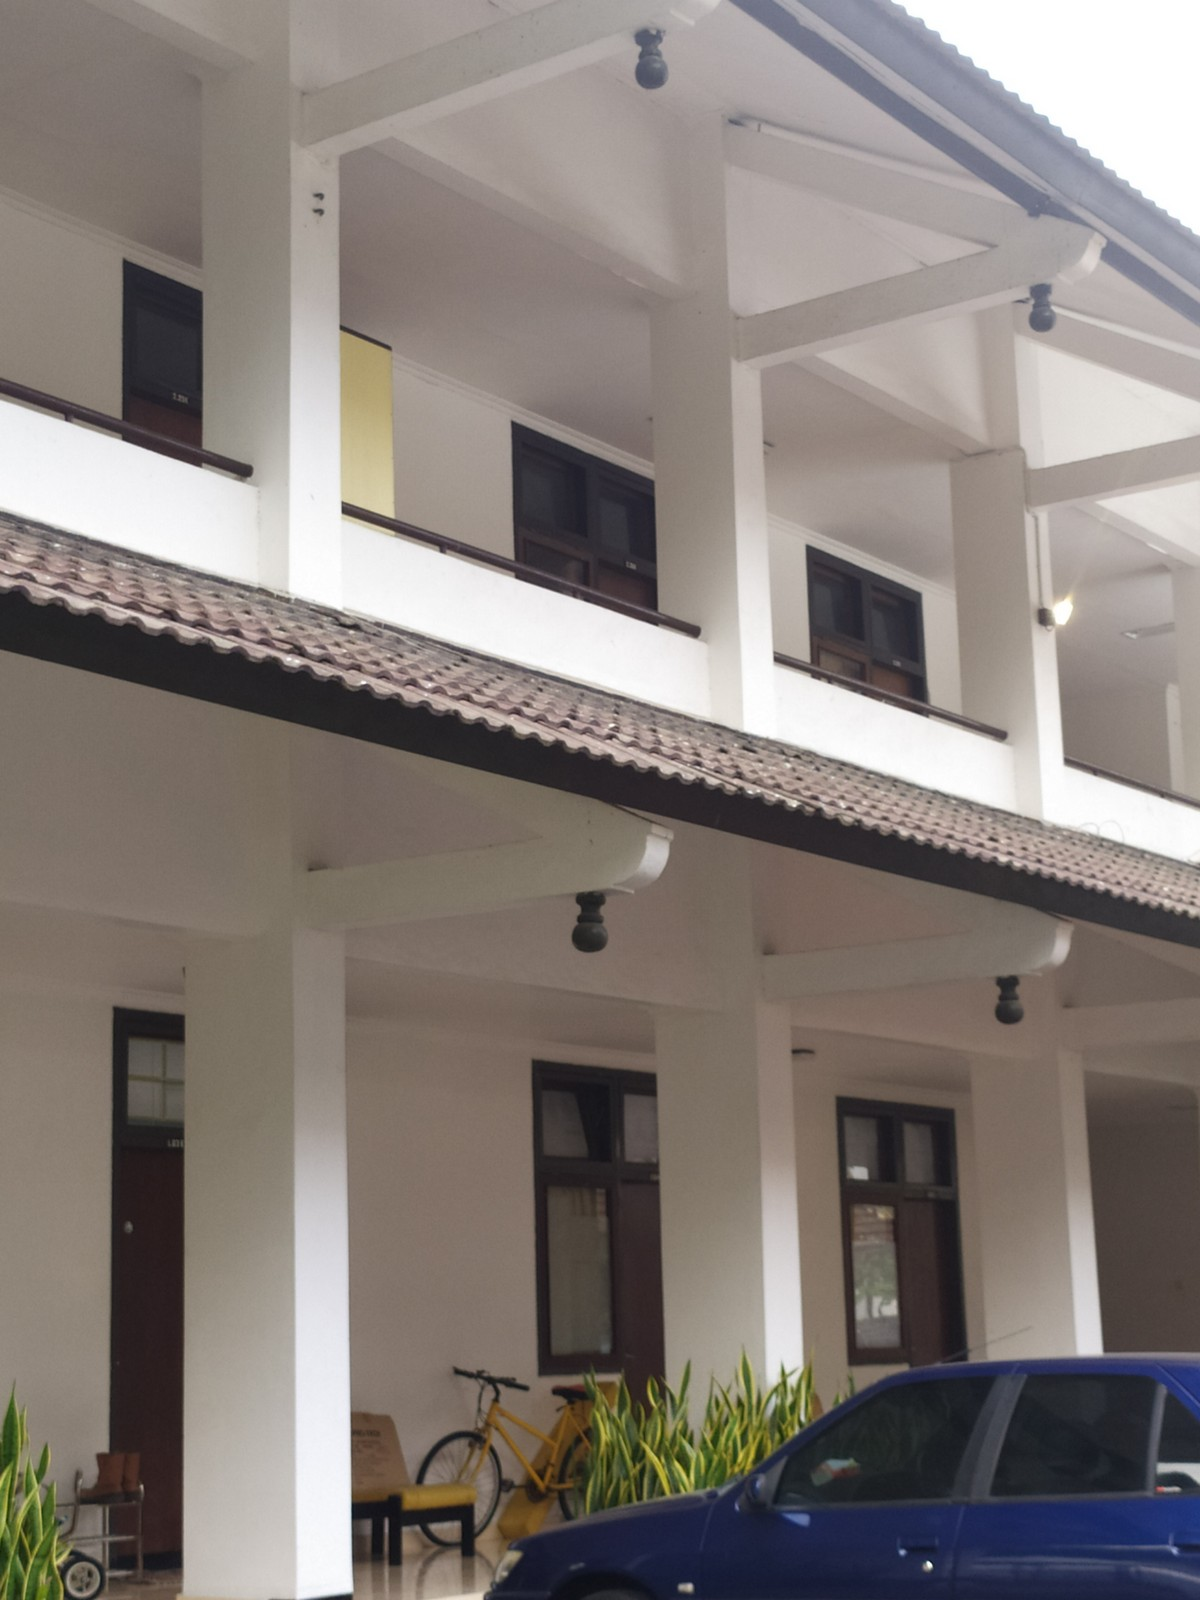concrete beam: (277, 20, 604, 168), (272, 844, 551, 944), (727, 263, 961, 377), (1011, 443, 1191, 515)
concrete column: (173, 717, 361, 1596), (645, 850, 816, 1444), (637, 115, 792, 746), (192, 34, 355, 614), (942, 282, 1084, 831), (958, 939, 1117, 1357)
